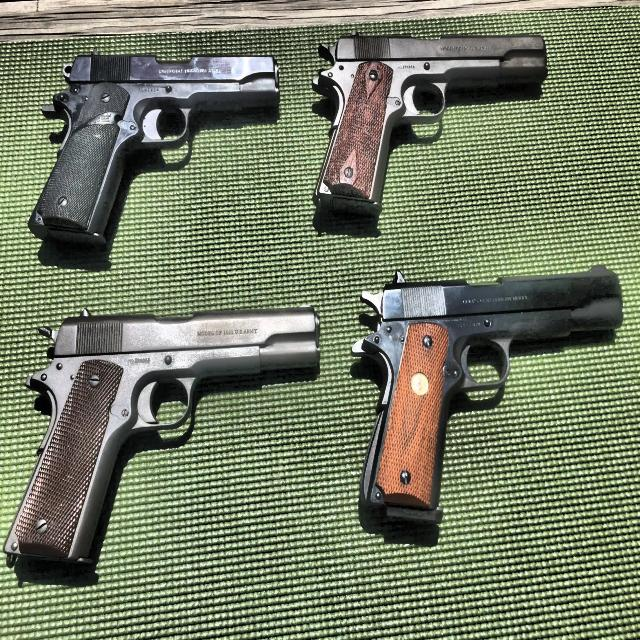Colt m1911: (3, 303, 321, 587), (349, 263, 624, 538), (27, 51, 280, 254), (310, 31, 547, 237)
